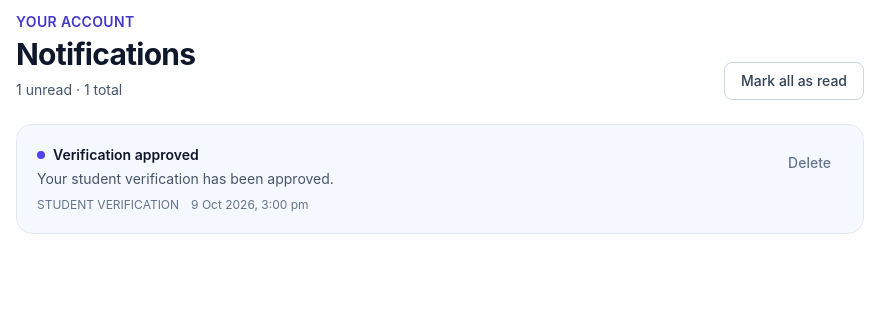
Test: Notifications › renders history and supports marking all read and deletion
Expected: the text "Verification approved" is shown, [53,145,199,165]
Click the button "Mark all as read". click: (794, 81)
box: [724,62,864,100]
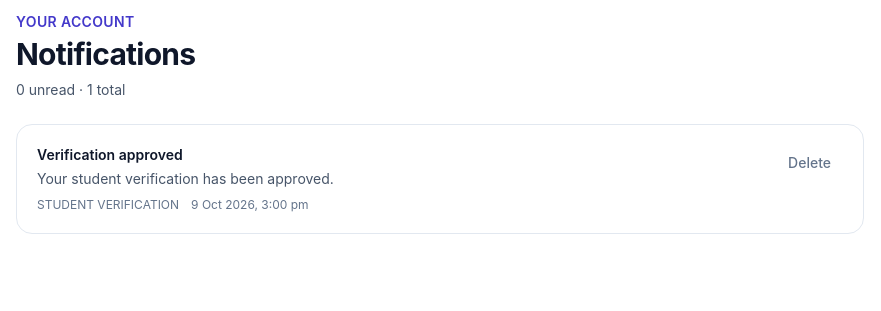
Click the button with aria-label "Delete Verification approved". click: (810, 163)
box: [776,145,843,181]
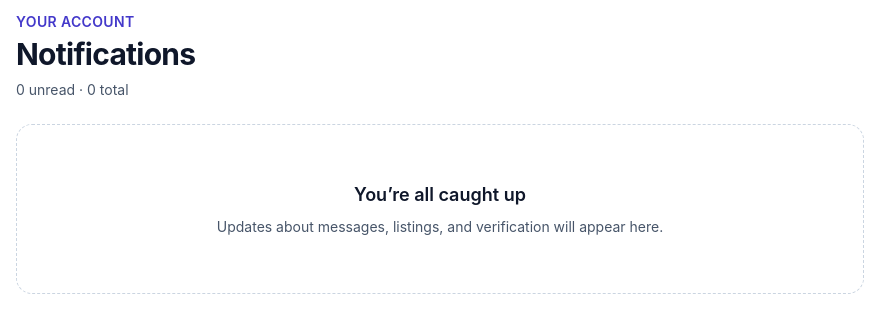
Expected: the heading "You’re all caught up" is shown, [354,184,526,205]
